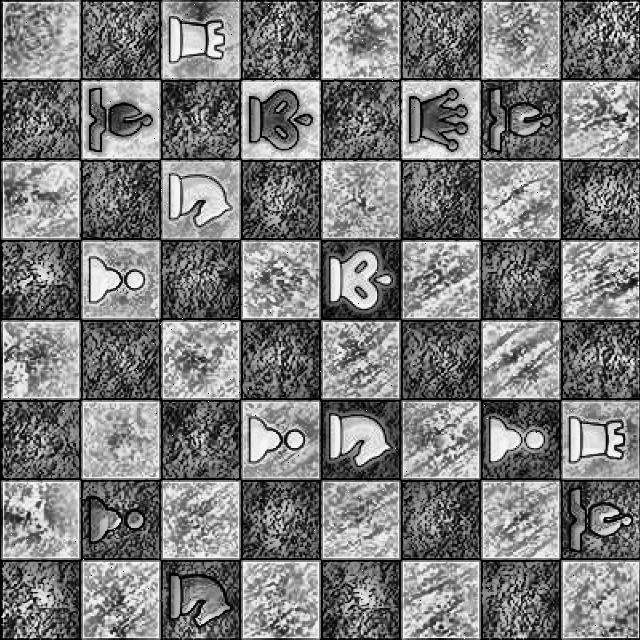Black Knight: (160, 568, 236, 630)
black bishop: (554, 485, 636, 556), (478, 84, 556, 152), (80, 83, 154, 153)
black king: (244, 88, 322, 156)
black pawn: (84, 490, 150, 550)
black queen: (404, 83, 476, 156)
white king: (323, 246, 395, 314)
white pawn: (483, 408, 555, 472), (246, 410, 312, 468), (81, 252, 145, 308)
white rook: (564, 408, 630, 468), (165, 9, 232, 67)
whiteknight: (322, 406, 392, 474), (166, 172, 236, 232)
